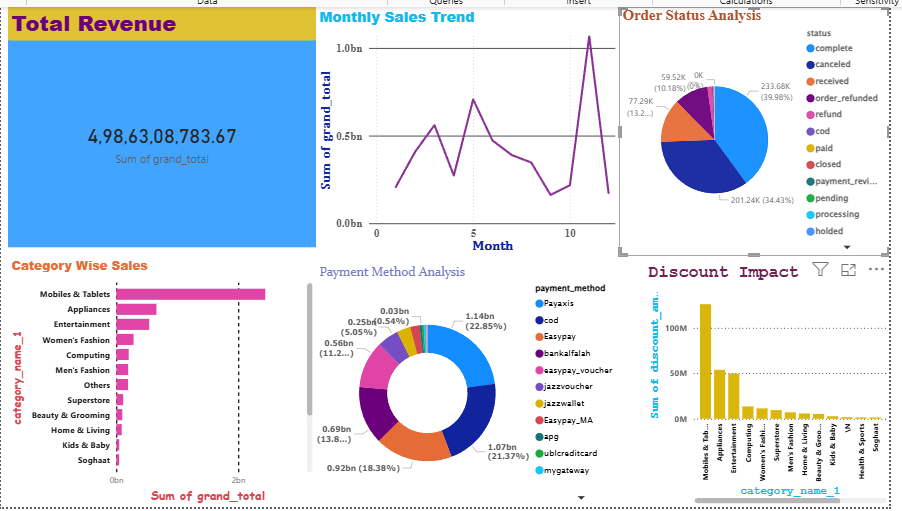

The dashboard page shown, as its layout file describes it:
{"tool":"powerbi","page":{"name":"Page 1","canvas":[1280,720],"ordinal":0},"visuals":[{"type":"card","title":"Total Revenue","fields":{"Values":["Sum(Pakistan Largest Ecommerce Dataset.grand_total)"]},"box":[10.1,0,443.5,345.6],"z":0},{"type":"clusteredBarChart","title":"Category Wise Sales","fields":{"Category":["Pakistan Largest Ecommerce Dataset.category_name_1"],"Y":["Sum(Pakistan Largest Ecommerce Dataset.grand_total)"]},"box":[10.1,360,443.5,360],"z":1000},{"type":"lineChart","title":"Monthly Sales Trend","fields":{"Category":["Pakistan Largest Ecommerce Dataset.Month"],"Y":["Sum(Pakistan Largest Ecommerce Dataset.grand_total)"]},"box":[453.6,0,436.3,358.6],"z":2000},{"type":"donutChart","title":"Payment Method Analysis","fields":{"Category":["Pakistan Largest Ecommerce Dataset.payment_method"],"Y":["Sum(Pakistan Largest Ecommerce Dataset.grand_total)"]},"box":[453.6,368.6,450.7,351.4],"z":3000},{"type":"pieChart","title":"Order Status Analysis","fields":{"Category":["Pakistan Largest Ecommerce Dataset.status"],"Y":["CountNonNull(Pakistan Largest Ecommerce Dataset.Customer ID)"]},"box":[889.9,0,390.2,358.6],"z":4000},{"type":"qnaVisual","box":[943.2,0,336.8,150],"z":5000},{"type":"clusteredColumnChart","title":"Discount Impact","fields":{"Category":["Pakistan Largest Ecommerce Dataset.category_name_1"],"Y":["Sum(Pakistan Largest Ecommerce Dataset.discount_amount)"]},"box":[927.4,368.6,352.8,351.4],"z":6000}]}

Visuals, with their boxes in screenshot pixels (x1, y1, x2, y2):
"Total Revenue" card: <bbox>5, 5, 313, 245</bbox>
"Category Wise Sales" clusteredBarChart: <bbox>5, 255, 313, 505</bbox>
"Monthly Sales Trend" lineChart: <bbox>313, 5, 616, 254</bbox>
"Payment Method Analysis" donutChart: <bbox>313, 261, 626, 505</bbox>
"Order Status Analysis" pieChart: <bbox>616, 5, 887, 254</bbox>
qnaVisual: <bbox>653, 5, 887, 109</bbox>
"Discount Impact" clusteredColumnChart: <bbox>642, 261, 887, 505</bbox>
